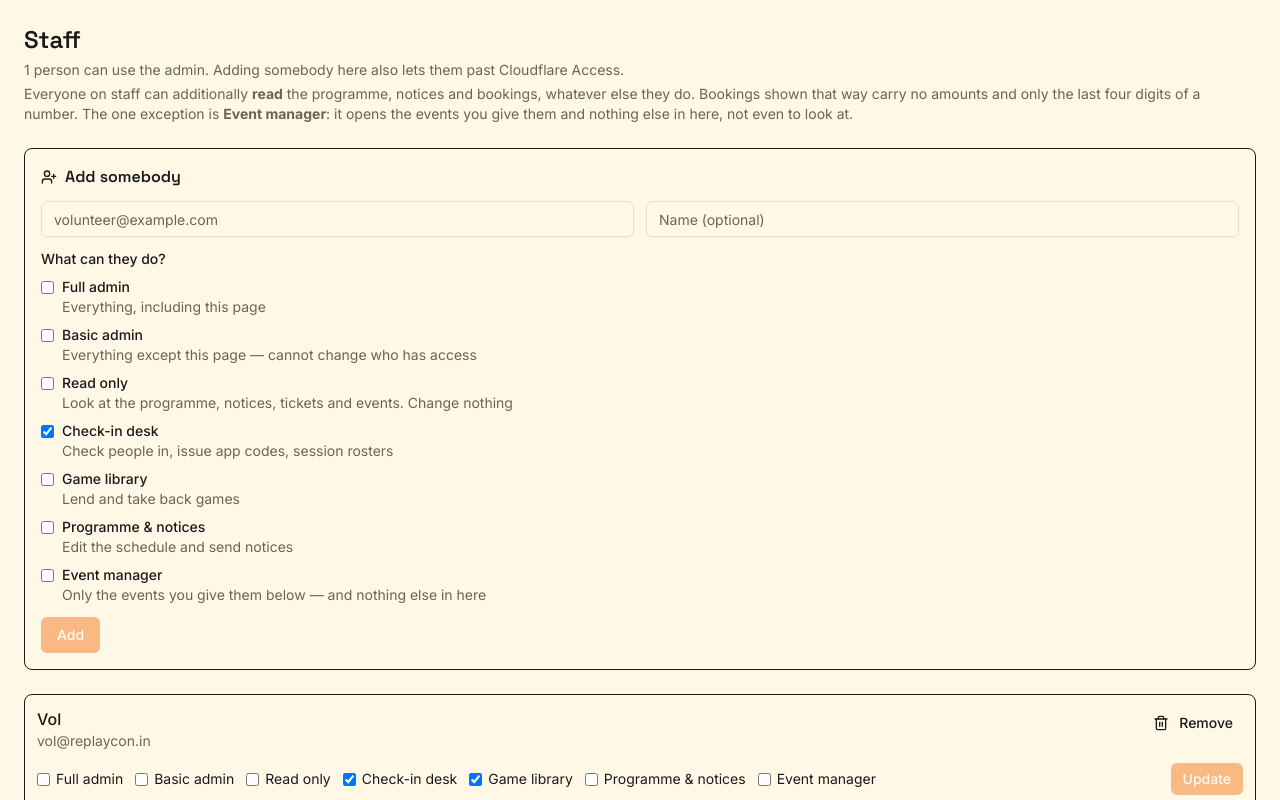
it: roles that contain each other › drops the desks when an umbrella is picked
Expected: the text "Vol" is shown, [37,709,61,729]
Click the checkbox labelled "Basic admin" at (142, 779), box [135,772,148,786]
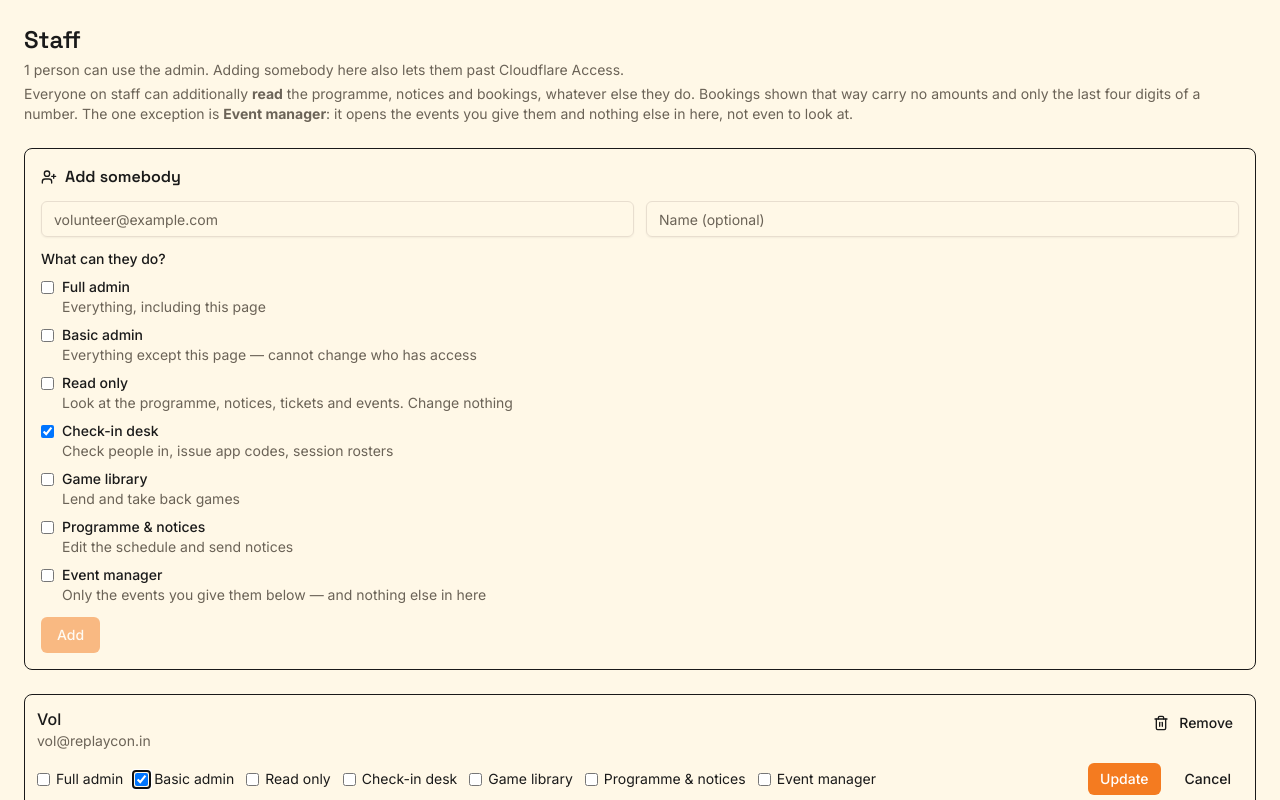
Now the checkbox labelled "Basic admin" is checked, box [135,772,148,786]
Now the checkbox labelled "Check-in desk" is not checked, box [343,772,356,786]
Now the checkbox labelled "Game library" is not checked, box [469,772,482,786]
